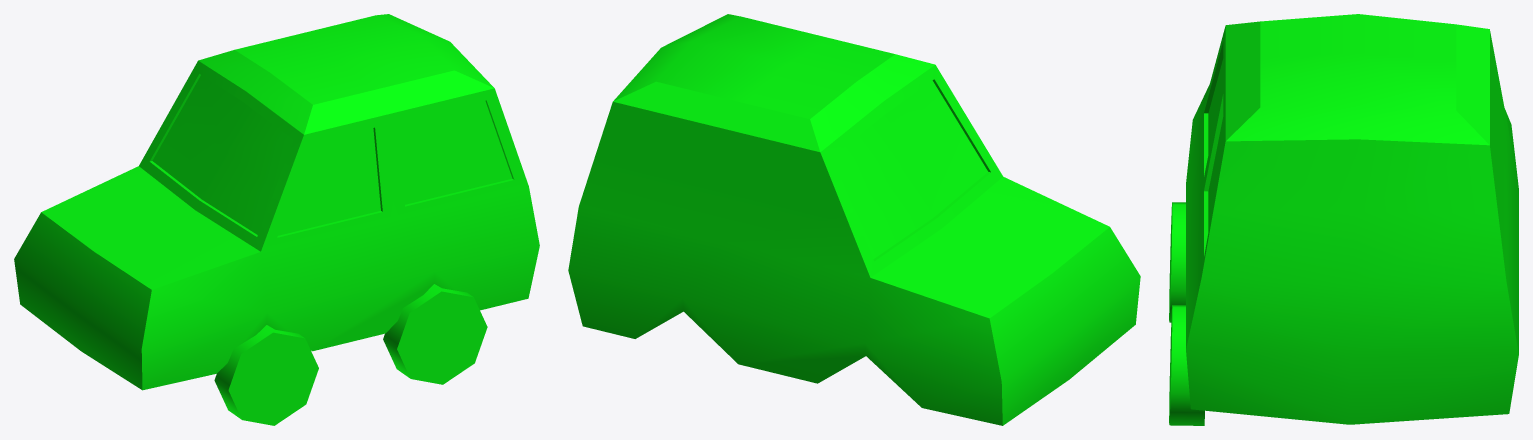
The model's file is Parts_Connect_Car.fbx.
3 views of the same model, side by side, from view 1: azimuth 30°, elevation 25°; view 2: azimuth 150°, elevation 25°; view 3: azimuth 270°, elevation 25° (orthographic). The views are drawn at different scales.
Parts seen in each view (by area): view 1: Box017; view 2: Box017; view 3: Box017.
Boxes of the visible parts, x1,y1,x2,y2 form: Box017: (14, 14, 539, 425); Box017: (568, 14, 1140, 425); Box017: (1169, 14, 1518, 425).
Bounding box in the file's own units: 46.47 × 30.67 × 27.76.
